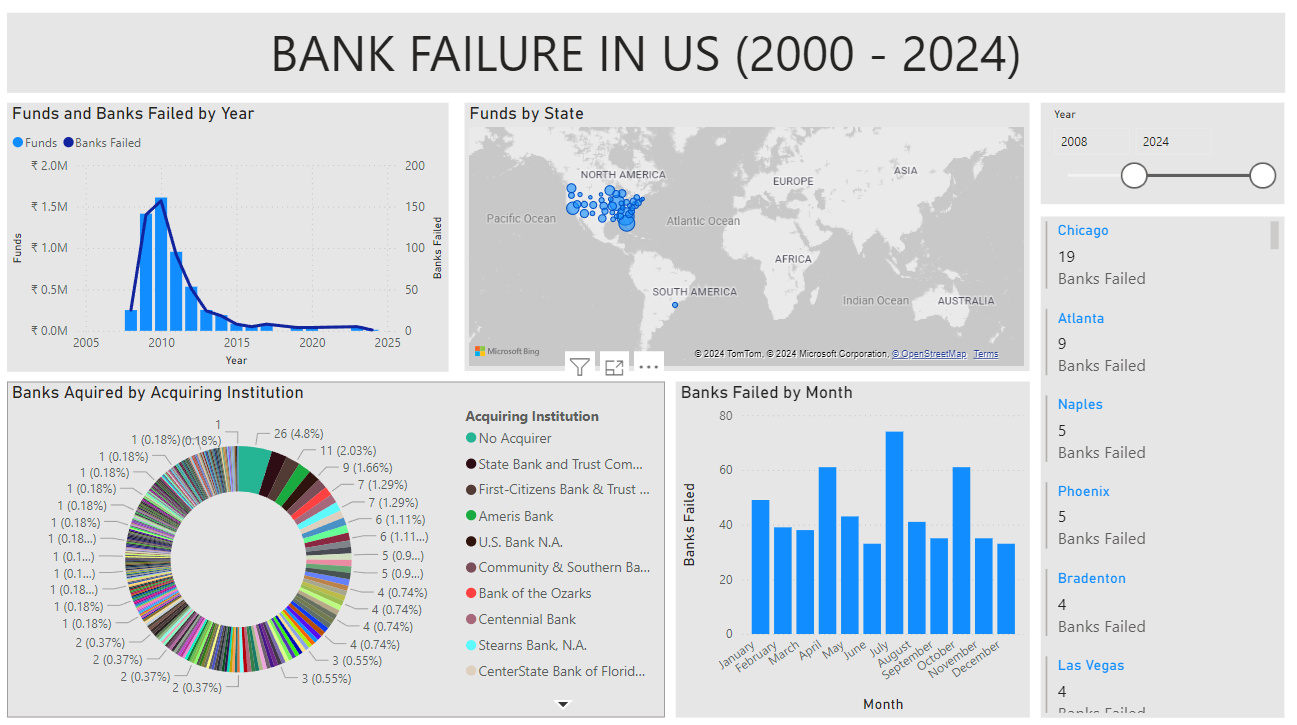

The page's visual inventory and layout, read from the dashboard file:
{"tool":"powerbi","page":{"name":"Bank Failure Dashboard","canvas":[1280,720],"ordinal":0},"visuals":[{"type":"textbox","box":[10,18.5,1250.1,78.2],"z":0},{"type":"lineClusteredColumnComboChart","fields":{"Y":["Sum(banklist.Fund)"],"Y2":["CountNonNull(banklist.Bank Name )"],"Category":["banklist.Closing Date .Variation.Date Hierarchy.Year"]},"box":[10,106.7,432.4,263.1],"z":1000},{"type":"map","fields":{"Category":["banklist.State "],"Size":["Sum(banklist.Fund)"]},"box":[457.4,106.8,552.6,262.6],"z":2000},{"type":"slicer","fields":{"Values":["banklist.Closing Date .Variation.Date Hierarchy.Year"]},"box":[1021.5,106.8,238.1,99.6],"z":3000},{"type":"donutChart","fields":{"Category":["banklist.Acquiring Institution "],"Y":["CountNonNull(banklist.Bank Name )"]},"box":[9.8,379.1,643.2,328.9],"z":4000},{"type":"columnChart","fields":{"Category":["banklist.Closing Date .Variation.Date Hierarchy.Month"],"Y":["CountNonNull(banklist.Bank Name )"]},"box":[664,379,346,329],"z":5000},{"type":"multiRowCard","fields":{"Values":["banklist.Bank Name ","banklist.City "]},"box":[1021.5,217.9,238.1,490.5],"z":6000}]}

Visuals, with their boxes in screenshot pixels (x1, y1, x2, y2), scaled from the page's 1280x720 canvas onto the 1297x725 screenshot:
textbox: 10,19,1277,97
lineClusteredColumnComboChart - Sum(banklist.Fund) x CountNonNull(banklist.Bank Name ): 10,107,448,372
map - banklist.State  x Sum(banklist.Fund): 463,108,1023,372
slicer - banklist.Closing Date .Variation.Date Hierarchy.Year: 1035,108,1276,208
donutChart - banklist.Acquiring Institution  x CountNonNull(banklist.Bank Name ): 10,382,662,713
columnChart - banklist.Closing Date .Variation.Date Hierarchy.Month x CountNonNull(banklist.Bank Name ): 673,382,1023,713
multiRowCard - banklist.Bank Name  x banklist.City : 1035,219,1276,713
